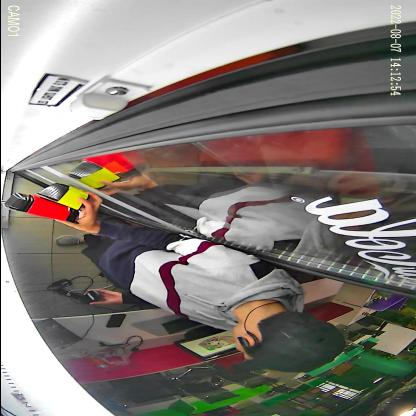red: (3, 192, 83, 224)
yellow: (36, 183, 90, 211)
